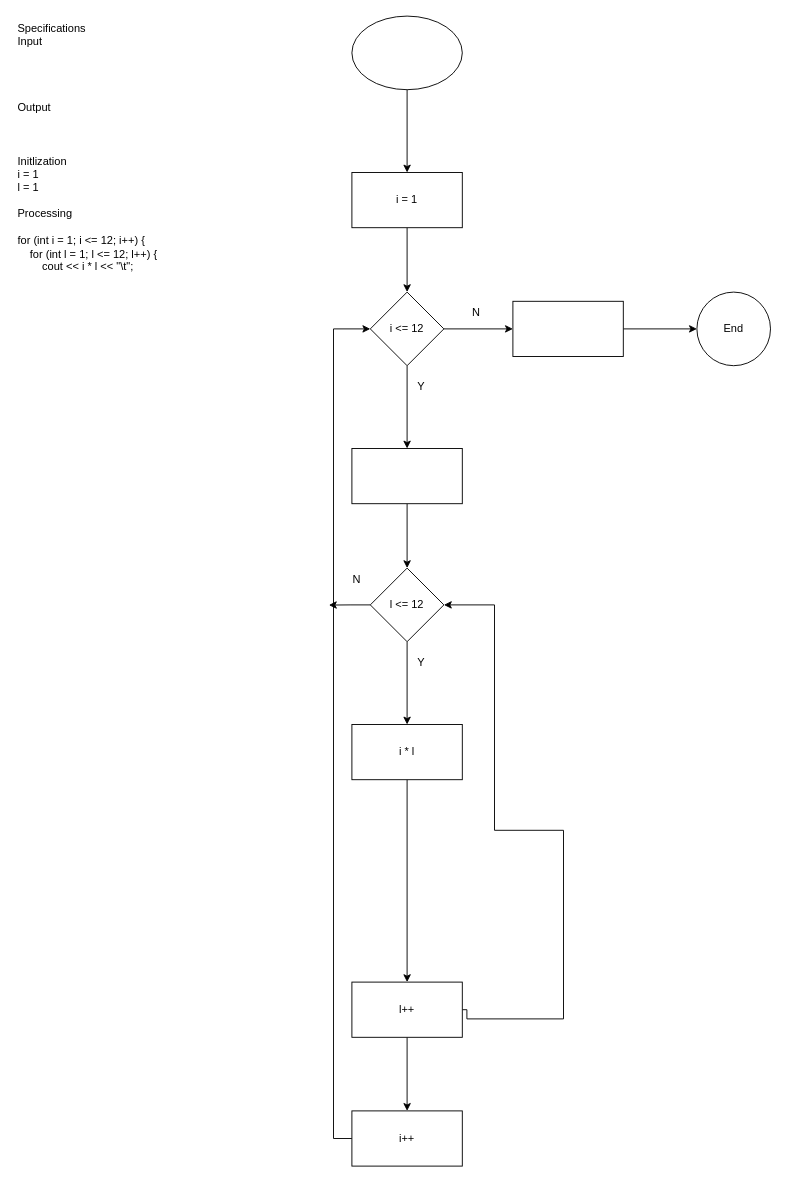
Image size: 787x1182. Some labels were removed from this diagram. Here are the shapes that lost their labels. From the top down, the centre of each, then its label:
At pixel 406 52: "Start".
At pixel 567 328: "print i * l".
At pixel 406 476: "l = 1".
